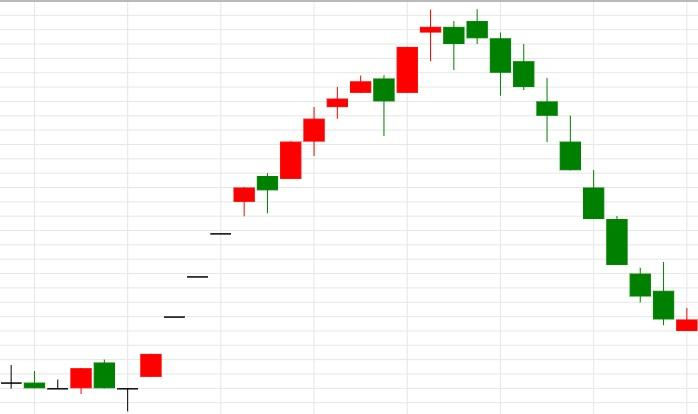evening_star_fall: (280, 10, 464, 178)
hanging_man_fall: (280, 75, 395, 179)
